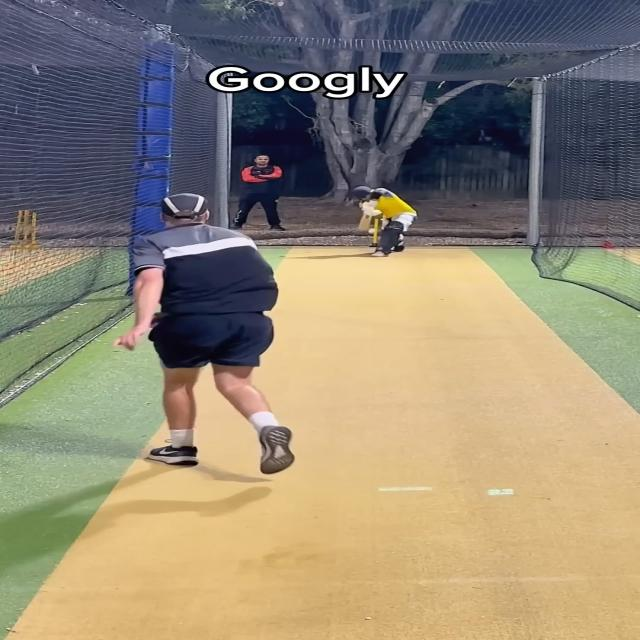Cricket ball: (368, 228, 376, 234)
